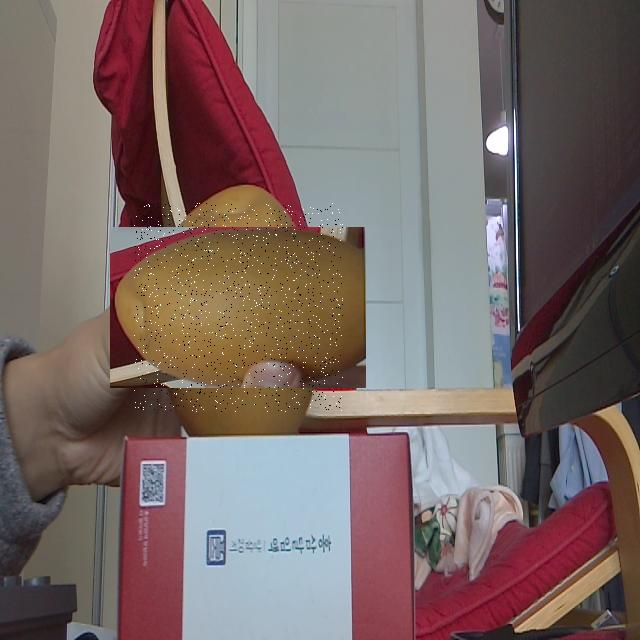pear: (134, 203, 343, 412)
